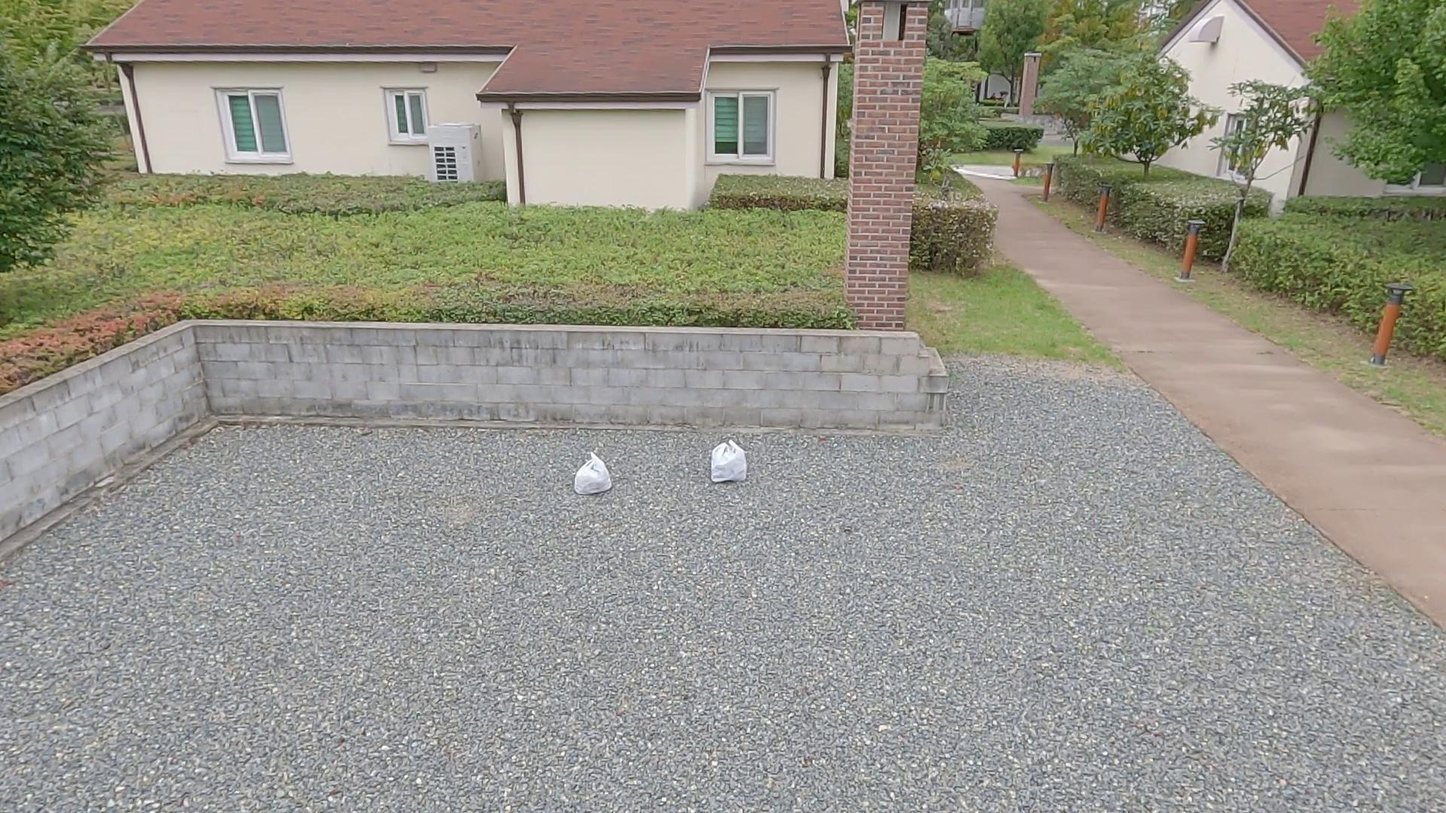trash: (566, 448, 614, 500), (706, 437, 754, 487)
